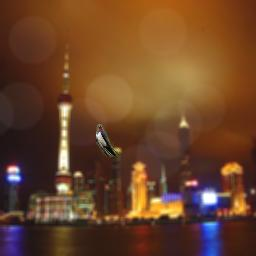Swallow: (96, 124, 121, 157)
